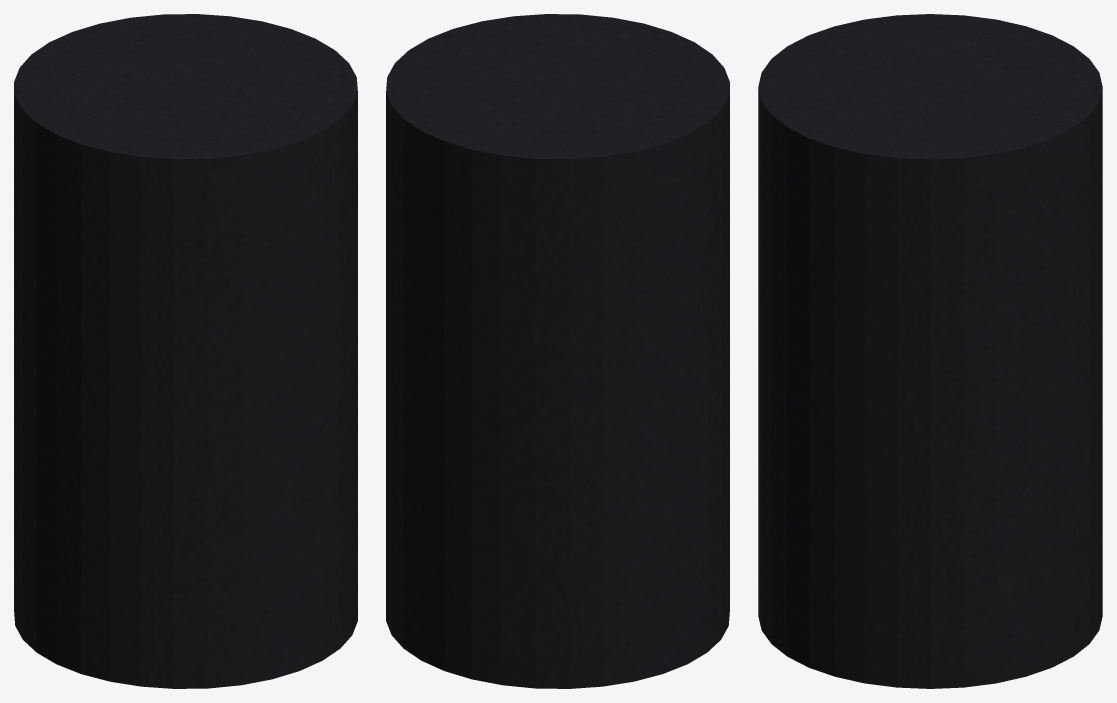
File: pen_holder.glb
The picture shows the model from 3 angles, left to right: view 1: azimuth 30°, elevation 25°; view 2: azimuth 150°, elevation 25°; view 3: azimuth 270°, elevation 25°; orthographic projection.
Parts seen in each view (by area): view 1: pen_holder; view 2: pen_holder; view 3: pen_holder.
Boxes of the visible parts, x1,y1,x2,y2 form: pen_holder: (14, 14, 357, 688); pen_holder: (386, 14, 729, 688); pen_holder: (758, 14, 1102, 688).
Size of the model in its own units: 0.056 by 0.095 by 0.056.
1 material, 1 textured.
